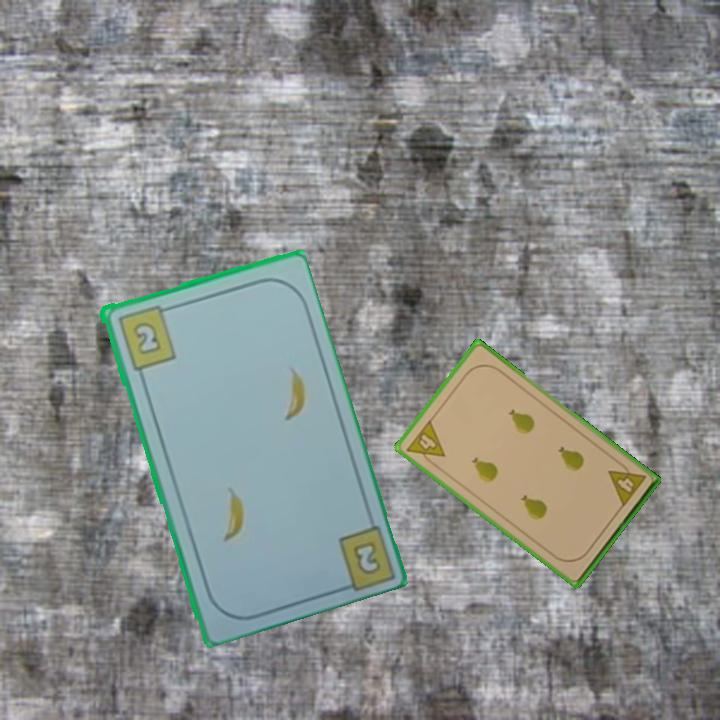2b: (113, 301, 179, 373), (348, 537, 384, 578)
4p: (403, 416, 448, 470), (604, 457, 649, 510)
